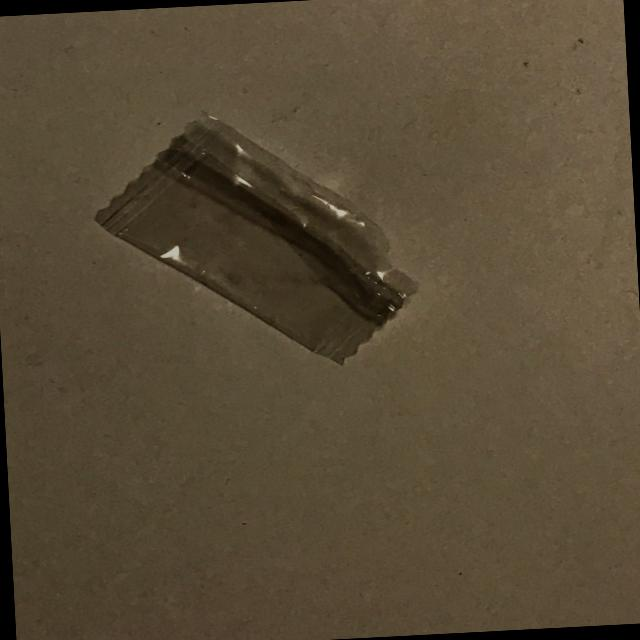Plastic: (70, 98, 472, 410)
